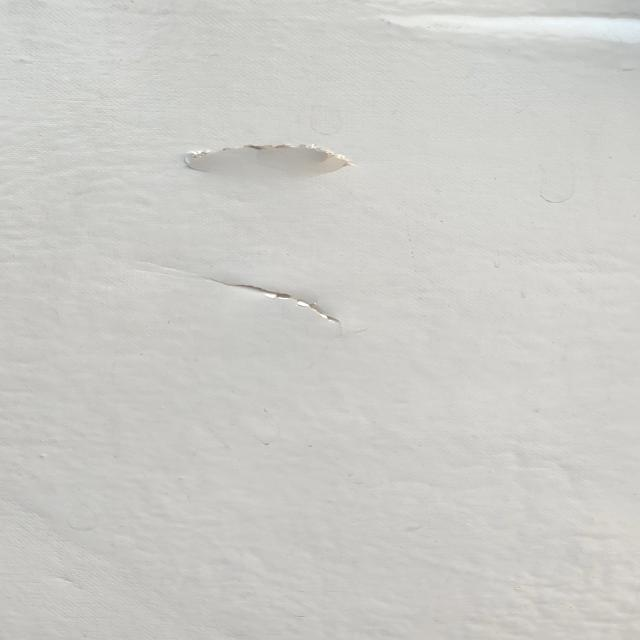Scratches: (139, 113, 366, 186), (165, 267, 369, 344)
